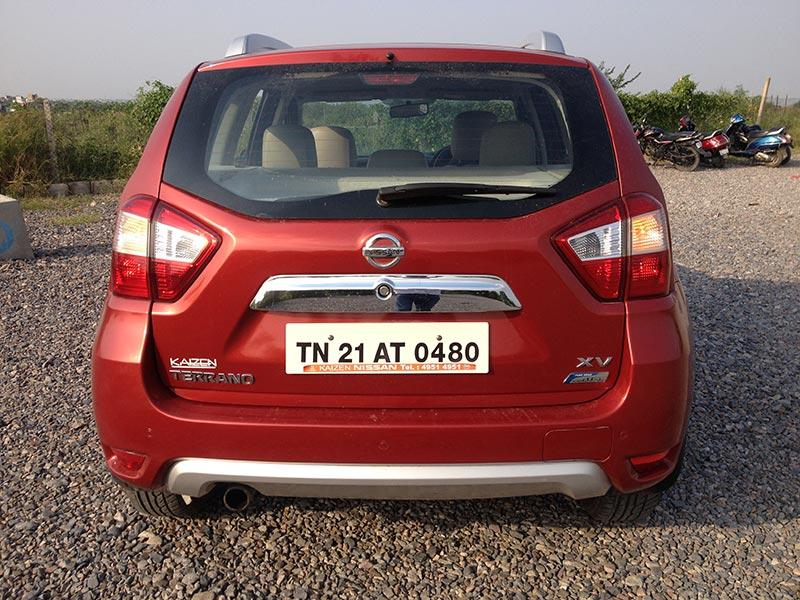licence-plate: (289, 326, 481, 372)
